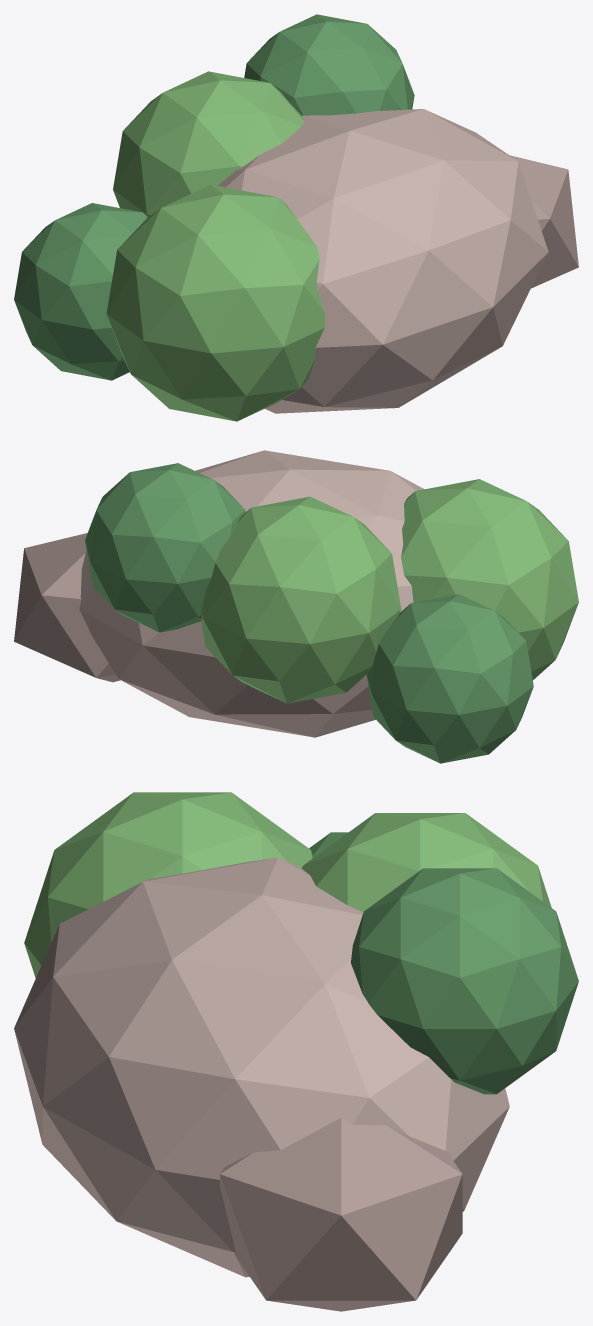
The model's file is HOB_RockBush.fbx.
3 views of the same model, one above another, from view 1: azimuth 30°, elevation 25°; view 2: azimuth 150°, elevation 25°; view 3: azimuth 270°, elevation 25° (orthographic). The views are drawn at different scales.
Visible parts, largest first — view 1: HOB_RockBush; view 2: HOB_RockBush; view 3: HOB_RockBush.
Part boxes in pixels (x1,y1,x2,y2): HOB_RockBush: (14, 14, 578, 421); HOB_RockBush: (14, 450, 578, 763); HOB_RockBush: (14, 792, 578, 1311).
Bounding box in the file's own units: 306 × 167 × 214.
